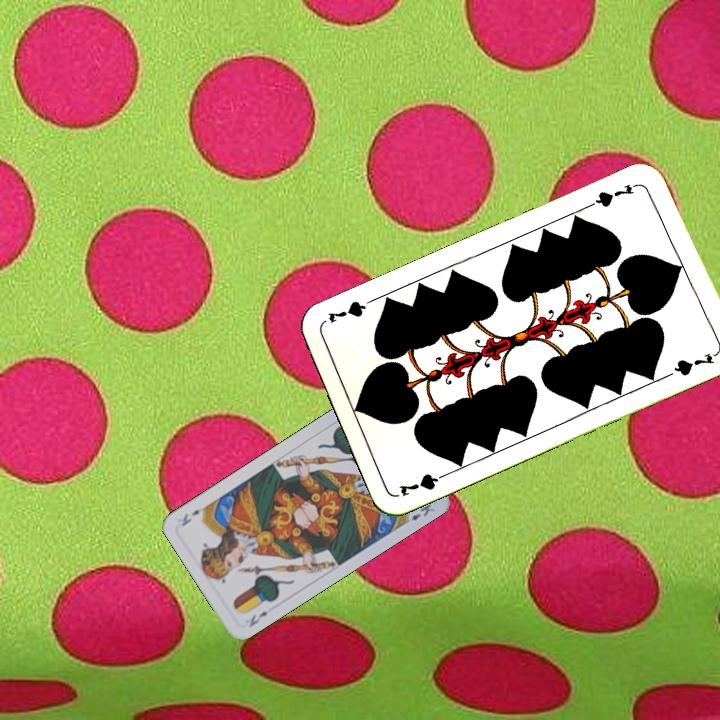EK: (245, 607, 270, 630)
G7: (394, 467, 453, 499), (586, 179, 642, 210)
